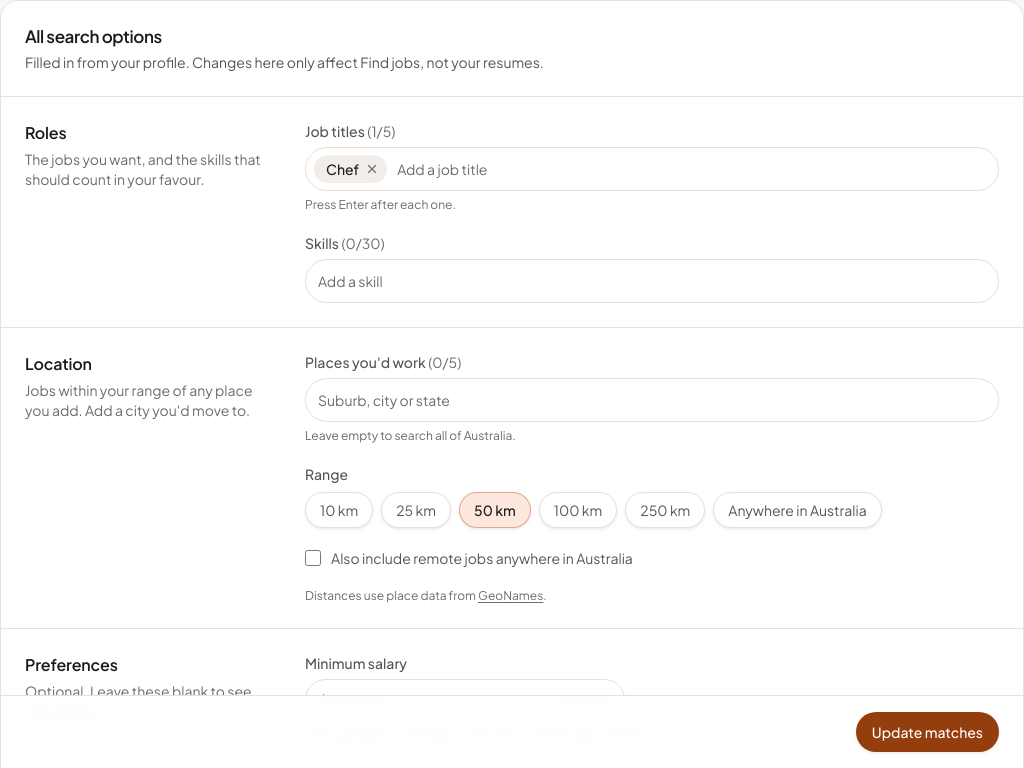
Test case: JobProfileForm › shows server field errors
Click the button "Update matches" at (927,732), box x1=856 y1=712 x2=999 y2=752
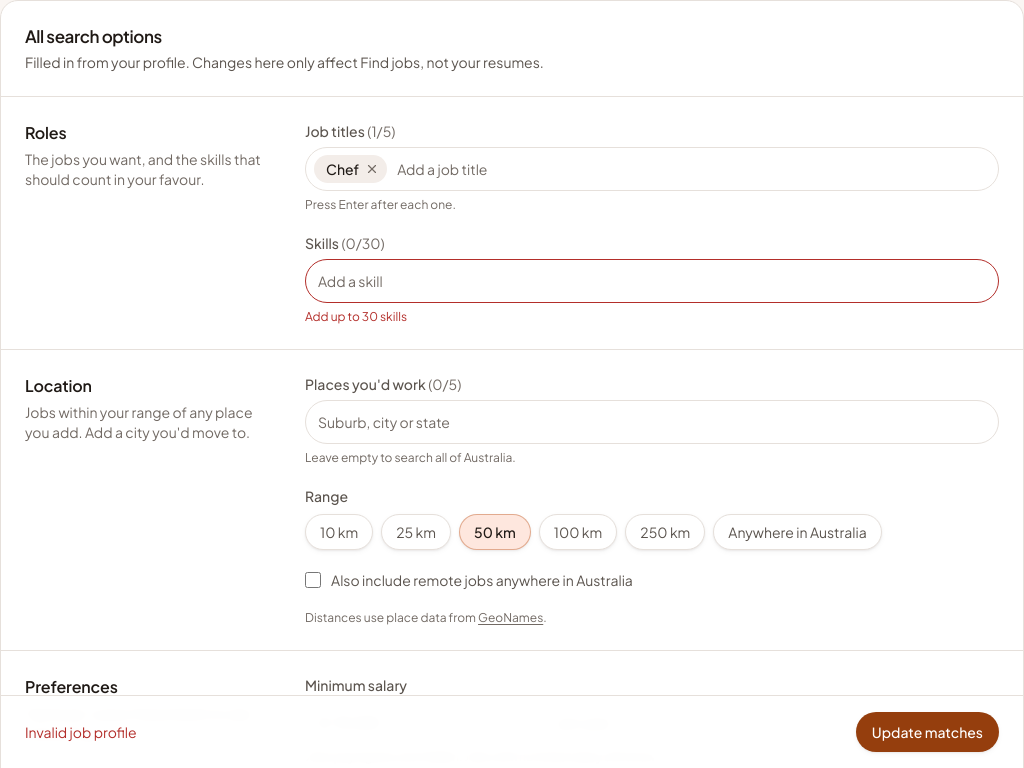
Expected: the text "Add up to 30 skills" is shown, x1=305 y1=309 x2=407 y2=324
Expected: the message reads "Invalid job profile", x1=25 y1=723 x2=137 y2=741
